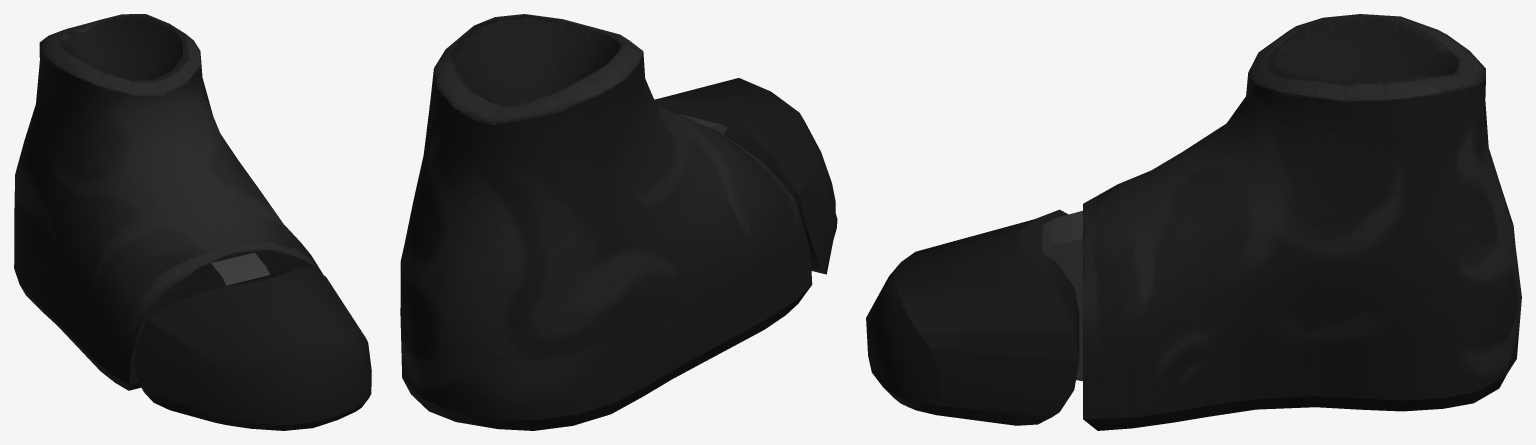
File: footR.fbx
3 views of the same model, side by side, from view 1: azimuth 30°, elevation 25°; view 2: azimuth 150°, elevation 25°; view 3: azimuth 270°, elevation 25° (orthographic). The views are drawn at different scales.
Visible parts, largest first — view 1: matte_0.004, matte_1.005; view 2: matte_0.004, matte_1.005; view 3: matte_0.004, matte_1.005.
Part boxes in pixels (bbox=[...]): matte_0.004: bbox=[14, 14, 323, 390]; matte_1.005: bbox=[134, 268, 371, 430]; matte_0.004: bbox=[400, 14, 812, 430]; matte_1.005: bbox=[654, 78, 837, 274]; matte_0.004: bbox=[1042, 14, 1521, 430]; matte_1.005: bbox=[866, 209, 1079, 425].
Size of the model in its own units: 343 by 725 by 389.
Materials: 1 (1 with a texture image).
